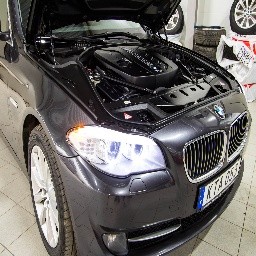sv_licence_plate: (194, 156, 245, 209)
